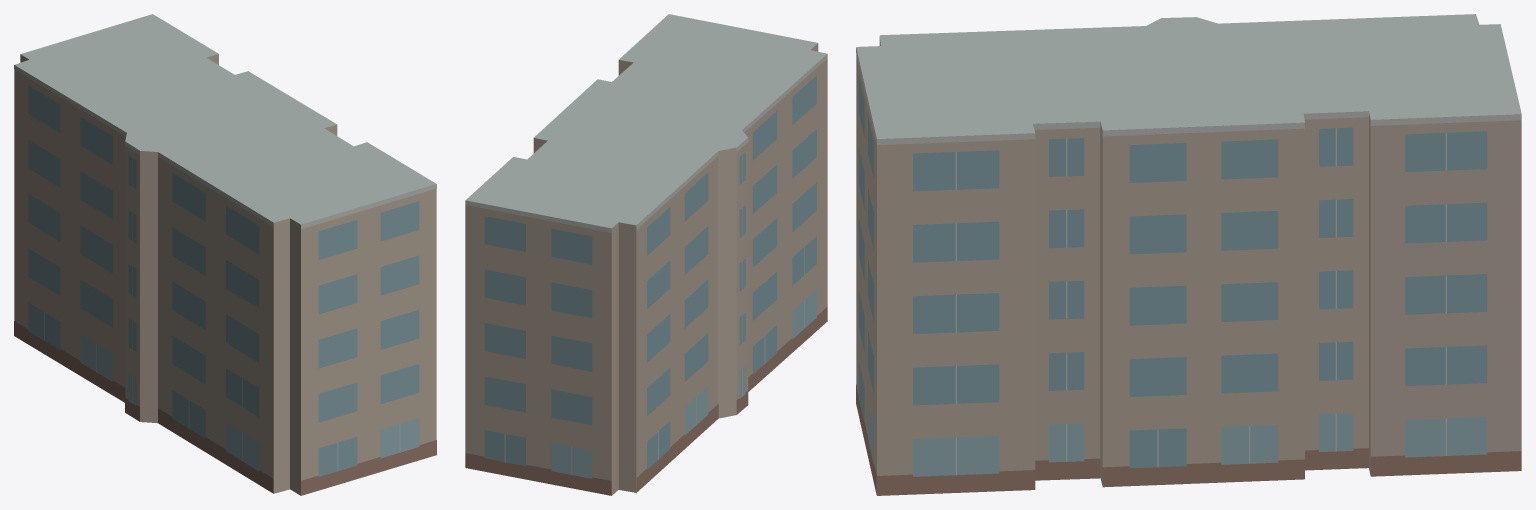
The model's file is survey-upis-32655269.glb.
3 views of the same model, side by side, from view 1: azimuth 30°, elevation 25°; view 2: azimuth 150°, elevation 25°; view 3: azimuth 270°, elevation 25° (orthographic). The views are drawn at different scales.
Visible parts, largest first — view 1: survey-upis-32655269.tmp; view 2: survey-upis-32655269.tmp; view 3: survey-upis-32655269.tmp.
Part boxes in pixels (<box>): survey-upis-32655269.tmp: <box>14,14,436,495</box>; survey-upis-32655269.tmp: <box>465,14,827,495</box>; survey-upis-32655269.tmp: <box>856,14,1521,495</box>.
Size of the model in its own units: 10.83 by 14.38 by 24.33.
